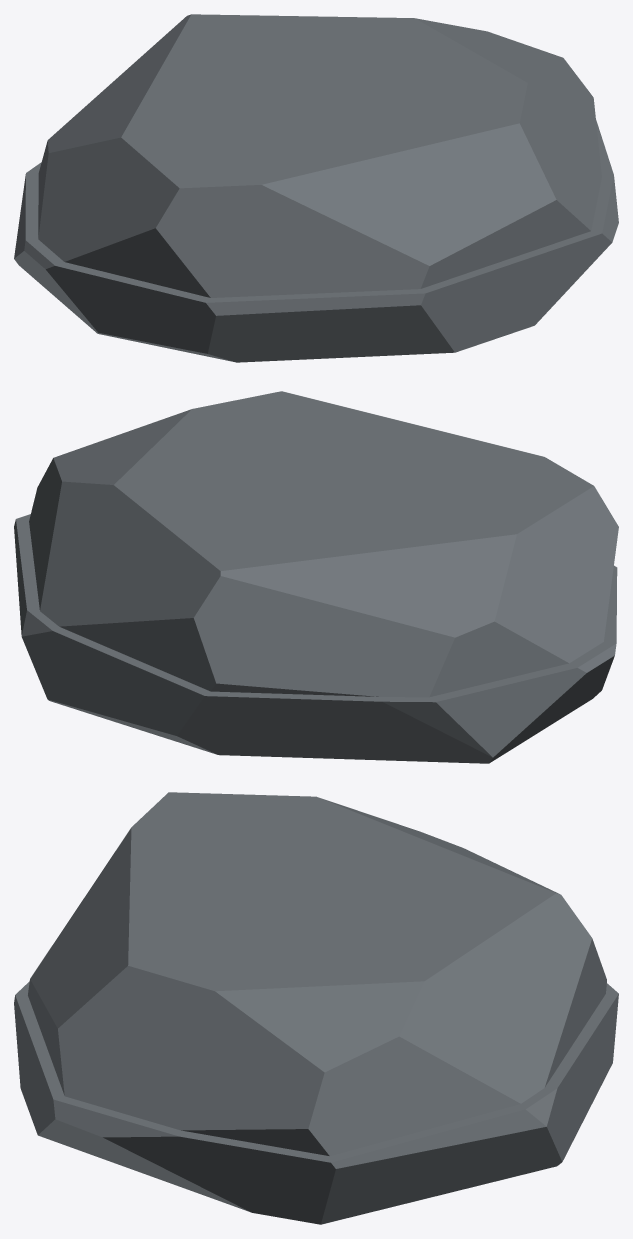
The model's file is mdvl_nature_streamrock_01.glb.
3 views of the same model, one above another, from view 1: azimuth 30°, elevation 25°; view 2: azimuth 150°, elevation 25°; view 3: azimuth 270°, elevation 25° (orthographic). The views are drawn at different scales.
Parts seen in each view (by area): view 1: mdvl_nature_streamrock_01; view 2: mdvl_nature_streamrock_01; view 3: mdvl_nature_streamrock_01.
Part boxes in pixels (x1=…): mdvl_nature_streamrock_01: x1=14, y1=14, x2=618, y2=362; mdvl_nature_streamrock_01: x1=14, y1=391, x2=618, y2=763; mdvl_nature_streamrock_01: x1=14, y1=792, x2=618, y2=1224.
Bounding box in the file's own units: 1.46 × 0.41 × 1.22.
1 material, 1 textured.
